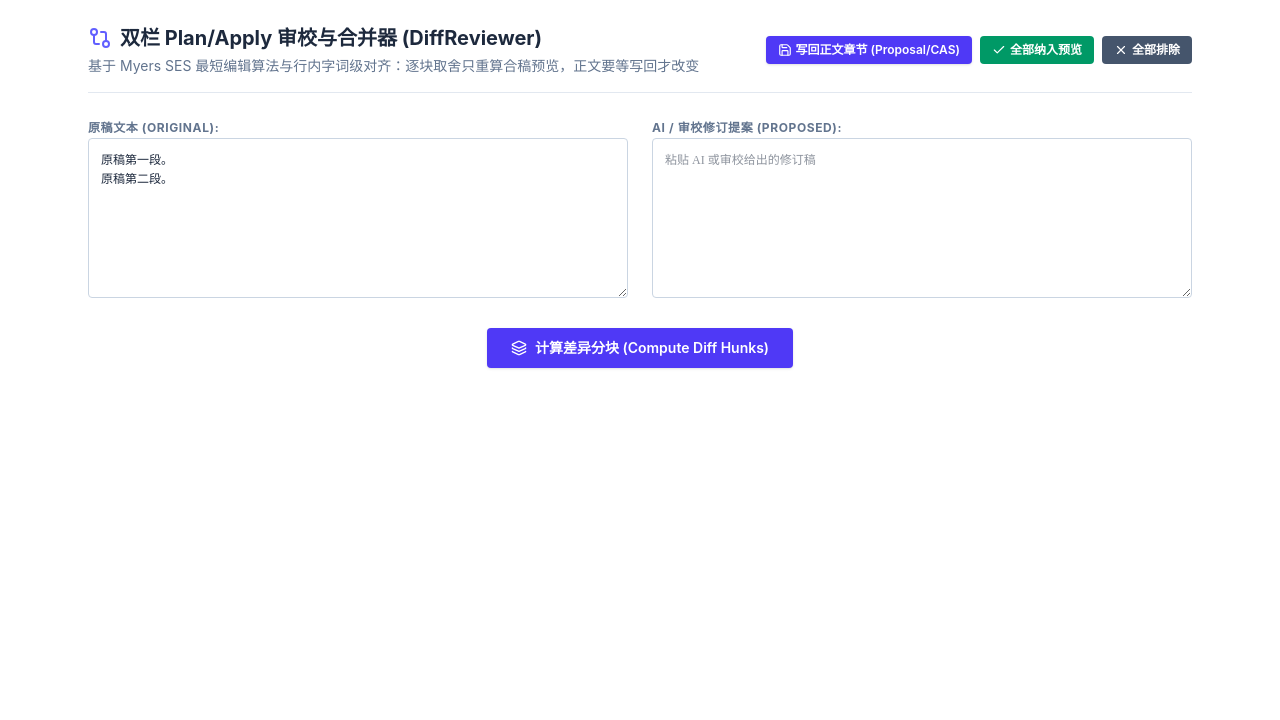
Test: DiffReviewer UI Components › uses semantic text for AI input while keeping HTML through writeback and undo
The image size is (1280, 720).
Type "<p>改写第一段。</p><p>改写第二段。</p>" into the text box with placeholder "粘贴 AI 或审校给出的修订稿". click: (922, 218)
box: [652,138,1192,298]
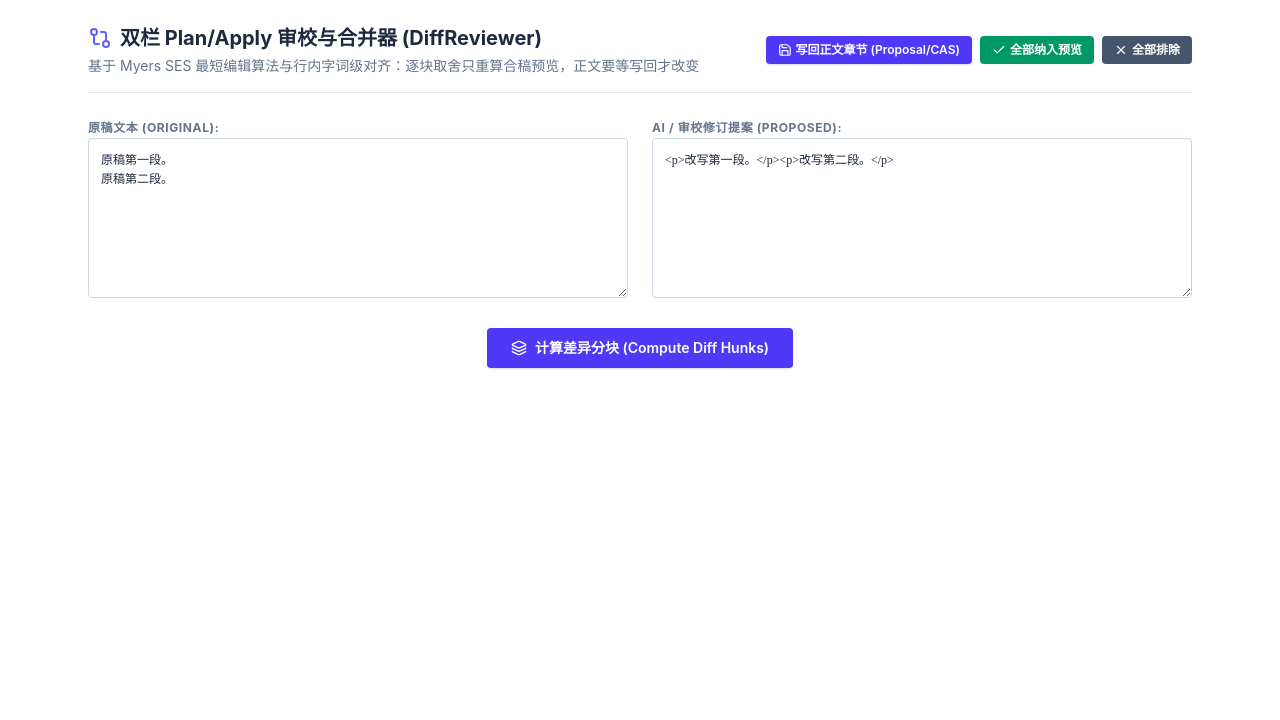
Click the button "计算差异分块 (Compute Diff Hunks)". click: click(640, 348)
box: [487,328,793,368]
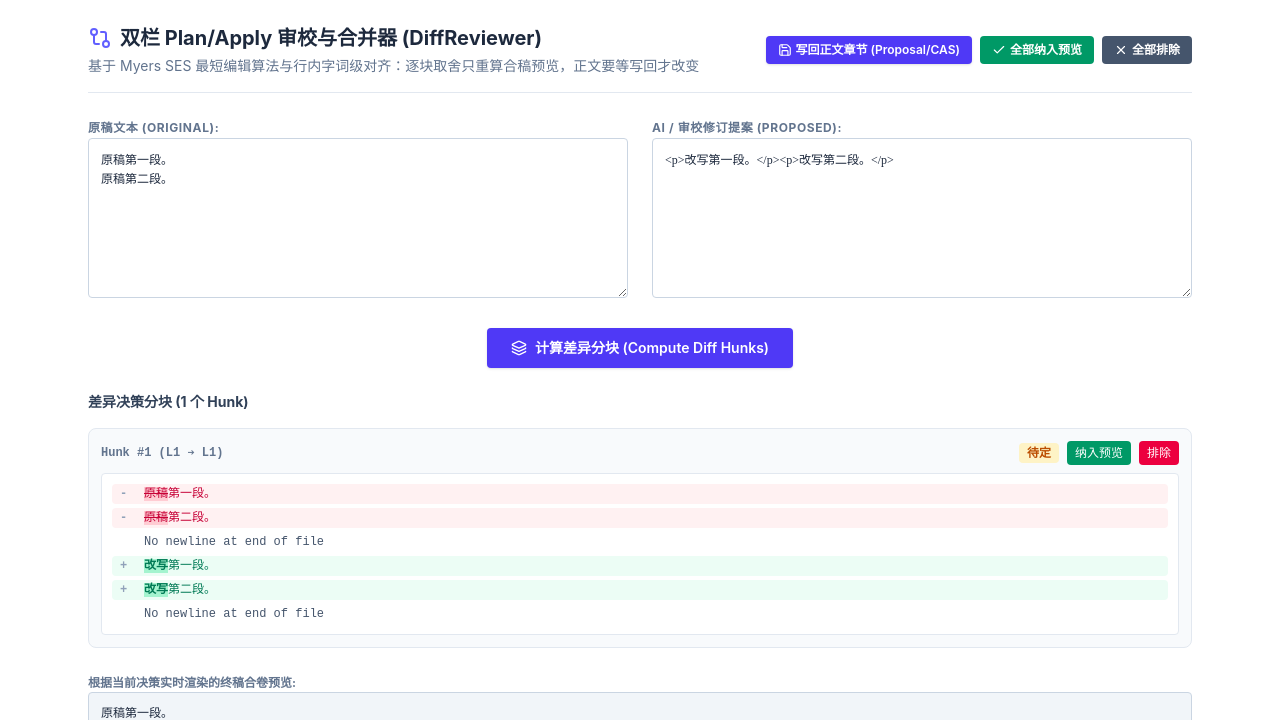
Expected: the heading "差异决策分块 (1 个 Hunk)" is shown, [88,393,249,410]
Click the button "全部纳入预览". click: click(1037, 50)
box: [980,36,1094,64]
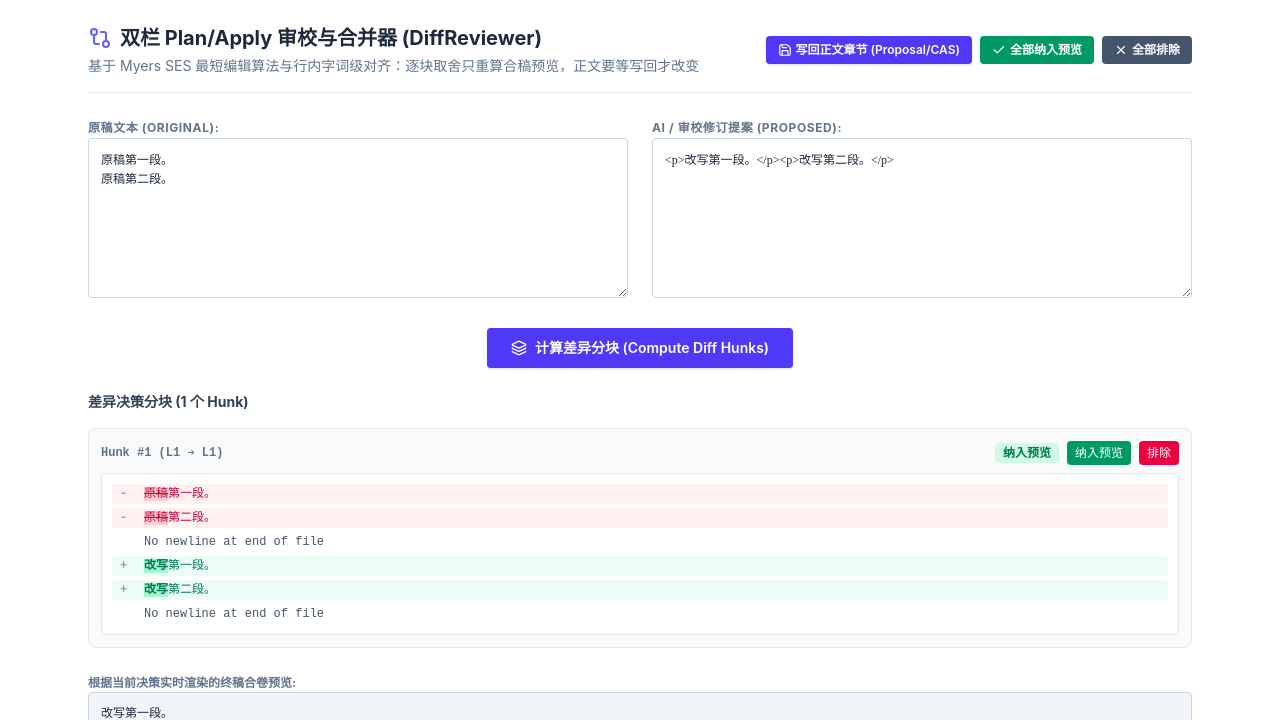
Click the button "写回正文章节 (Proposal/CAS)". click: click(869, 50)
box: [766,36,972,64]
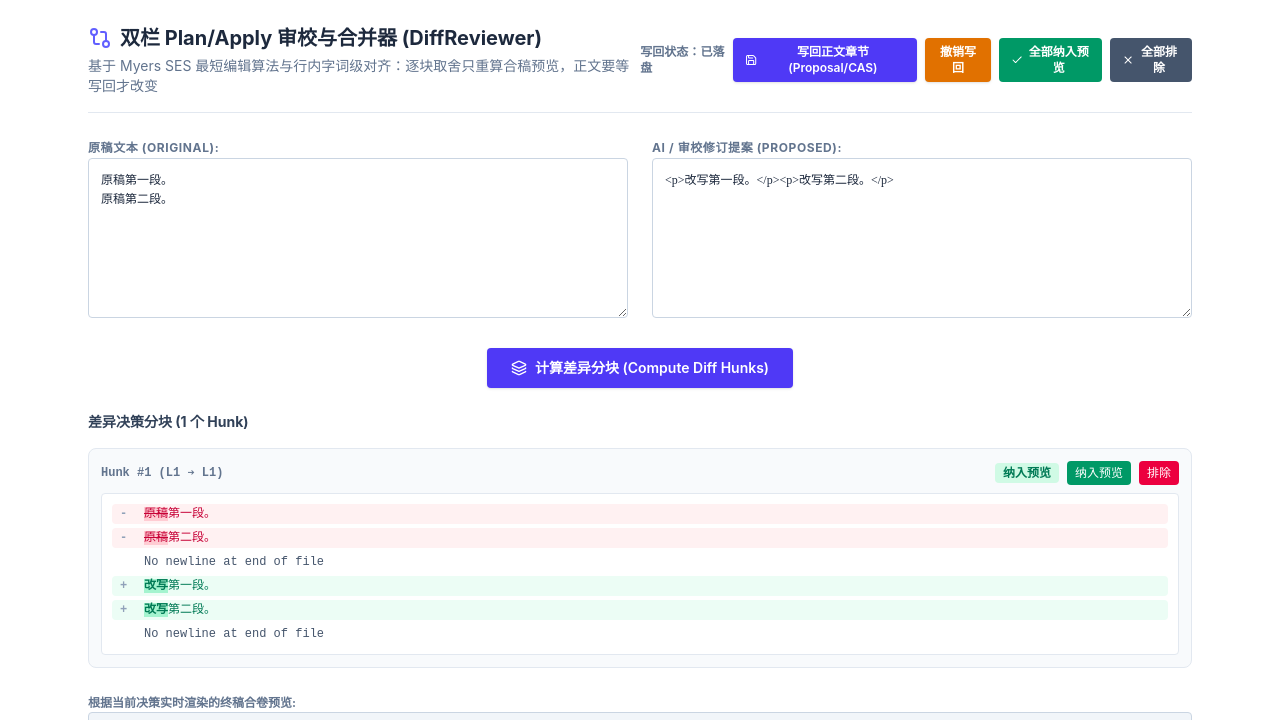
Expected: the button "撤销写回" is shown
Click the button "撤销写回". click: click(958, 60)
box: [925,38,991,82]
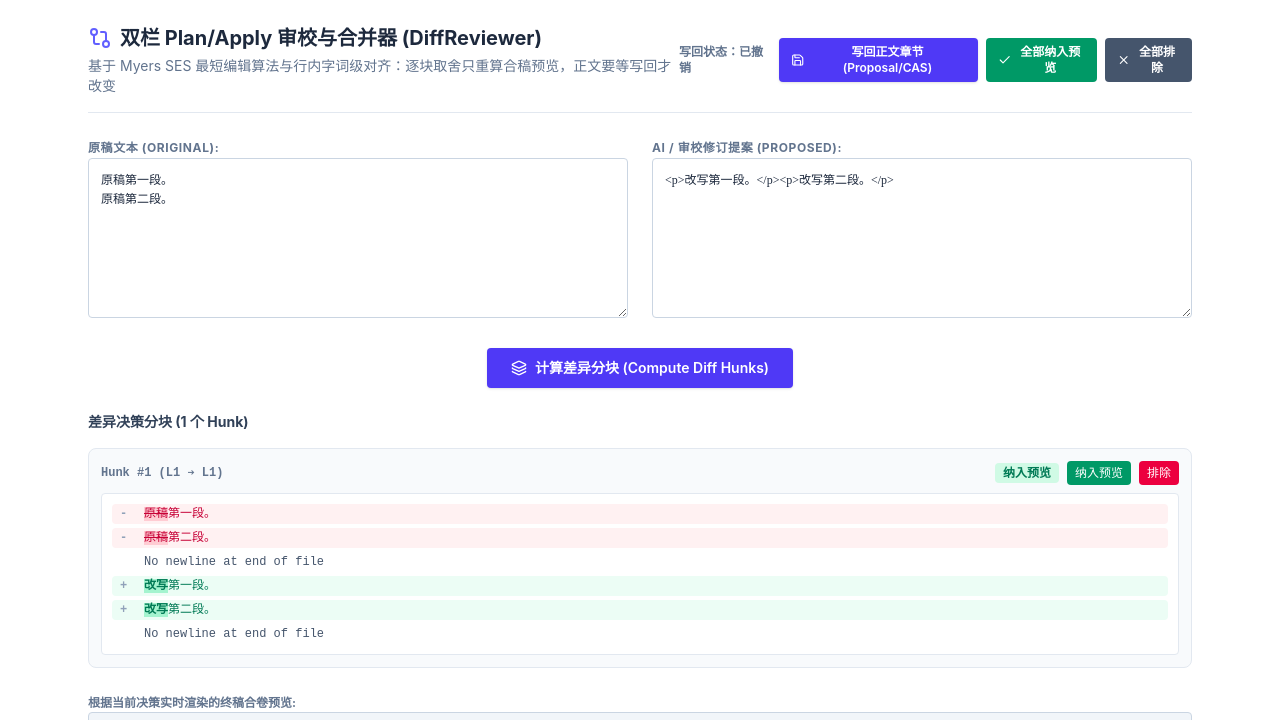
Expected: the button "写回正文章节 (Proposal/CAS)" is enabled, [779,38,978,82]
